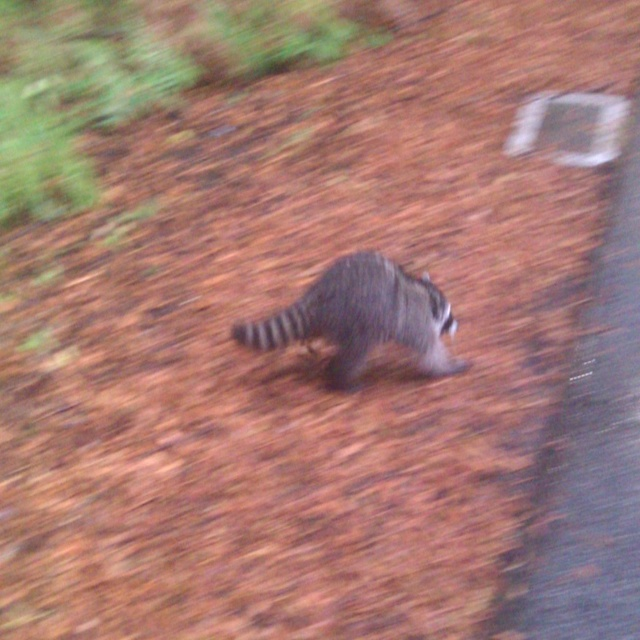Raccoon: (230, 253, 474, 393)
